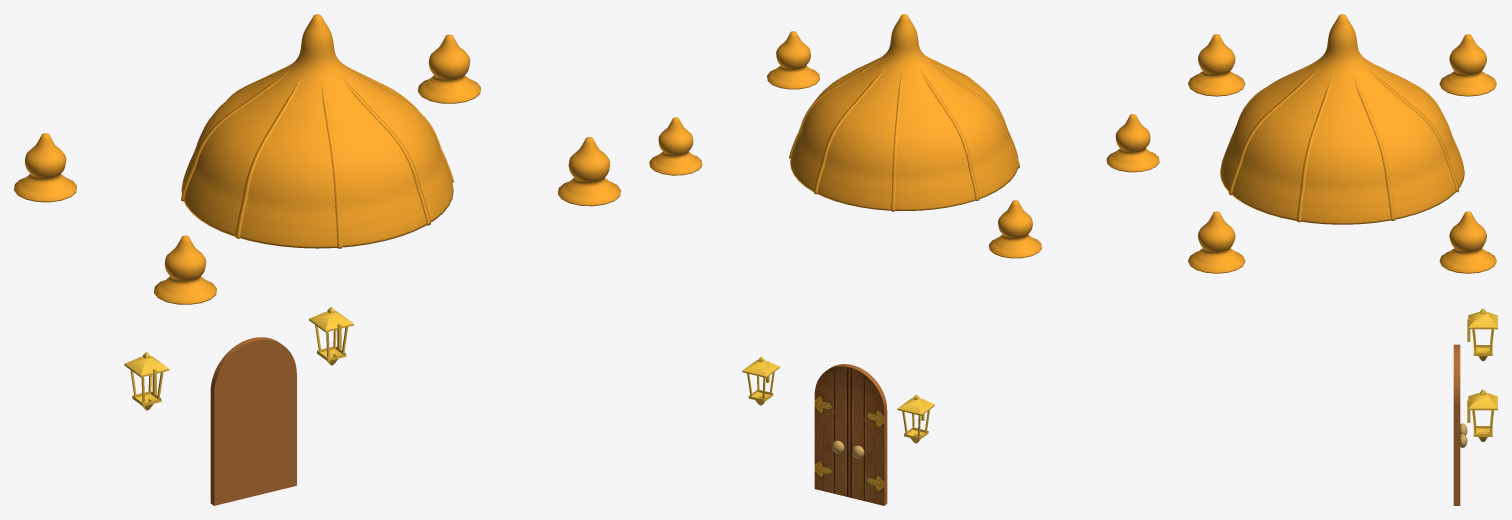
File: HaloDomeHouse_02_deco.glb
The picture shows the model from 3 angles, left to right: view 1: azimuth 30°, elevation 25°; view 2: azimuth 150°, elevation 25°; view 3: azimuth 270°, elevation 25°; orthographic projection. The views are drawn at different scales.
Visible parts, largest first — view 1: HaloDomeHouse_02_Dome, HaloDomeHouse_02_Leaf0, HaloDomeHouse_02_Leaf1, HaloDomeHouse_02_DomeRibs, HaloDomeHouse_02_TowerDome0, HaloDomeHouse_02_TowerDome1, HaloDomeHouse_02_TowerDome3, HaloDomeHouse_02_TowerDome2, HaloDomeHouse_02_Lantern1, HaloDomeHouse_02_Lantern0; view 2: HaloDomeHouse_02_Dome, HaloDomeHouse_02_Leaf0, HaloDomeHouse_02_Leaf1, HaloDomeHouse_02_DomeRibs, HaloDomeHouse_02_TowerDome3, HaloDomeHouse_02_TowerDome0, HaloDomeHouse_02_TowerDome1, HaloDomeHouse_02_TowerDome2, HaloDomeHouse_02_Lantern1, HaloDomeHouse_02_Lantern0; view 3: HaloDomeHouse_02_Dome, HaloDomeHouse_02_DomeRibs, HaloDomeHouse_02_TowerDome0, HaloDomeHouse_02_TowerDome2, HaloDomeHouse_02_TowerDome1, HaloDomeHouse_02_TowerDome3, HaloDomeHouse_02_Leaf1, HaloDomeHouse_02_Lantern0, HaloDomeHouse_02_Lantern1.
Boxes of the visible parts, left/top/right/bottom form: HaloDomeHouse_02_Dome: left=181, top=14, right=453, bottom=248; HaloDomeHouse_02_Leaf0: left=210, top=338, right=255, bottom=505; HaloDomeHouse_02_Leaf1: left=252, top=337, right=296, bottom=495; HaloDomeHouse_02_DomeRibs: left=181, top=64, right=453, bottom=248; HaloDomeHouse_02_TowerDome0: left=14, top=133, right=76, bottom=202; HaloDomeHouse_02_TowerDome1: left=154, top=235, right=216, bottom=304; HaloDomeHouse_02_TowerDome3: left=418, top=34, right=480, bottom=103; HaloDomeHouse_02_TowerDome2: left=558, top=137, right=620, bottom=206; HaloDomeHouse_02_Lantern1: left=309, top=307, right=353, bottom=365; HaloDomeHouse_02_Lantern0: left=124, top=352, right=169, bottom=410; HaloDomeHouse_02_Dome: left=790, top=14, right=1018, bottom=210; HaloDomeHouse_02_Leaf0: left=849, top=365, right=887, bottom=505; HaloDomeHouse_02_Leaf1: left=814, top=364, right=851, bottom=497; HaloDomeHouse_02_DomeRibs: left=789, top=56, right=1019, bottom=211; HaloDomeHouse_02_TowerDome3: left=649, top=117, right=702, bottom=175; HaloDomeHouse_02_TowerDome0: left=989, top=200, right=1041, bottom=258; HaloDomeHouse_02_TowerDome1: left=1106, top=114, right=1159, bottom=172; HaloDomeHouse_02_TowerDome2: left=767, top=31, right=819, bottom=89; HaloDomeHouse_02_Lantern1: left=742, top=356, right=779, bottom=405; HaloDomeHouse_02_Lantern0: left=897, top=394, right=934, bottom=443; HaloDomeHouse_02_Dome: left=1220, top=14, right=1464, bottom=224; HaloDomeHouse_02_DomeRibs: left=1228, top=60, right=1459, bottom=222; HaloDomeHouse_02_TowerDome0: left=1439, top=34, right=1496, bottom=96; HaloDomeHouse_02_TowerDome2: left=1188, top=211, right=1245, bottom=273; HaloDomeHouse_02_TowerDome1: left=1188, top=34, right=1245, bottom=96; HaloDomeHouse_02_TowerDome3: left=1439, top=211, right=1496, bottom=273; HaloDomeHouse_02_Leaf1: left=1453, top=348, right=1460, bottom=505; HaloDomeHouse_02_Lantern0: left=1467, top=308, right=1497, bottom=361; HaloDomeHouse_02_Lantern1: left=1467, top=389, right=1497, bottom=441.
Size of the model in its own units: 23.87 by 26.19 by 15.52.
5 materials, 1 textured.
